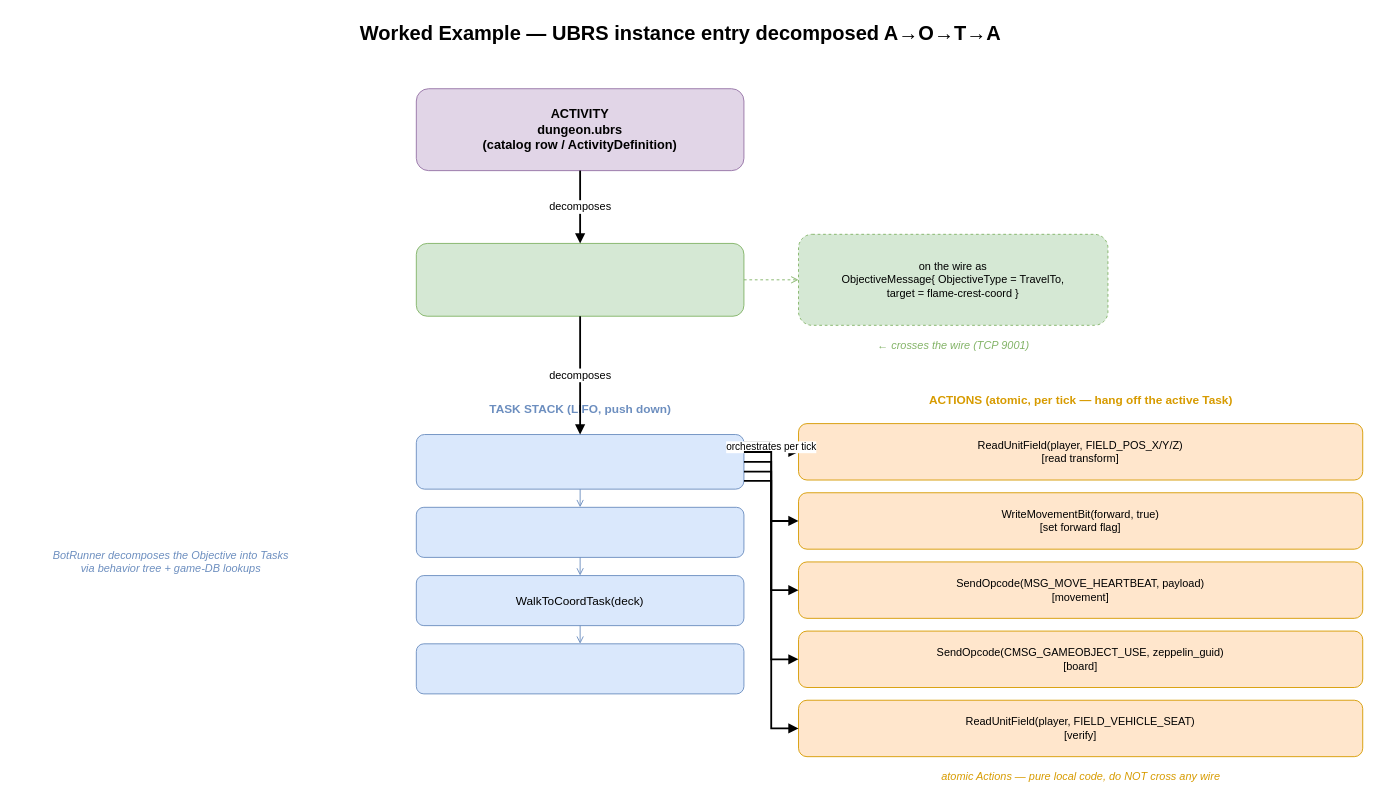
This 1379x803 diagram has some shape labels left out. Each missing label, with the centre of its shape:
BoardTransportTask(zeppelin_orgrimmar): point 579,531
OBJECTIVE reach-flame-crest: point 579,279
TravelToTask(coord) (top — currently ticking): point 579,461
WaitForLandingTask: point 579,668
